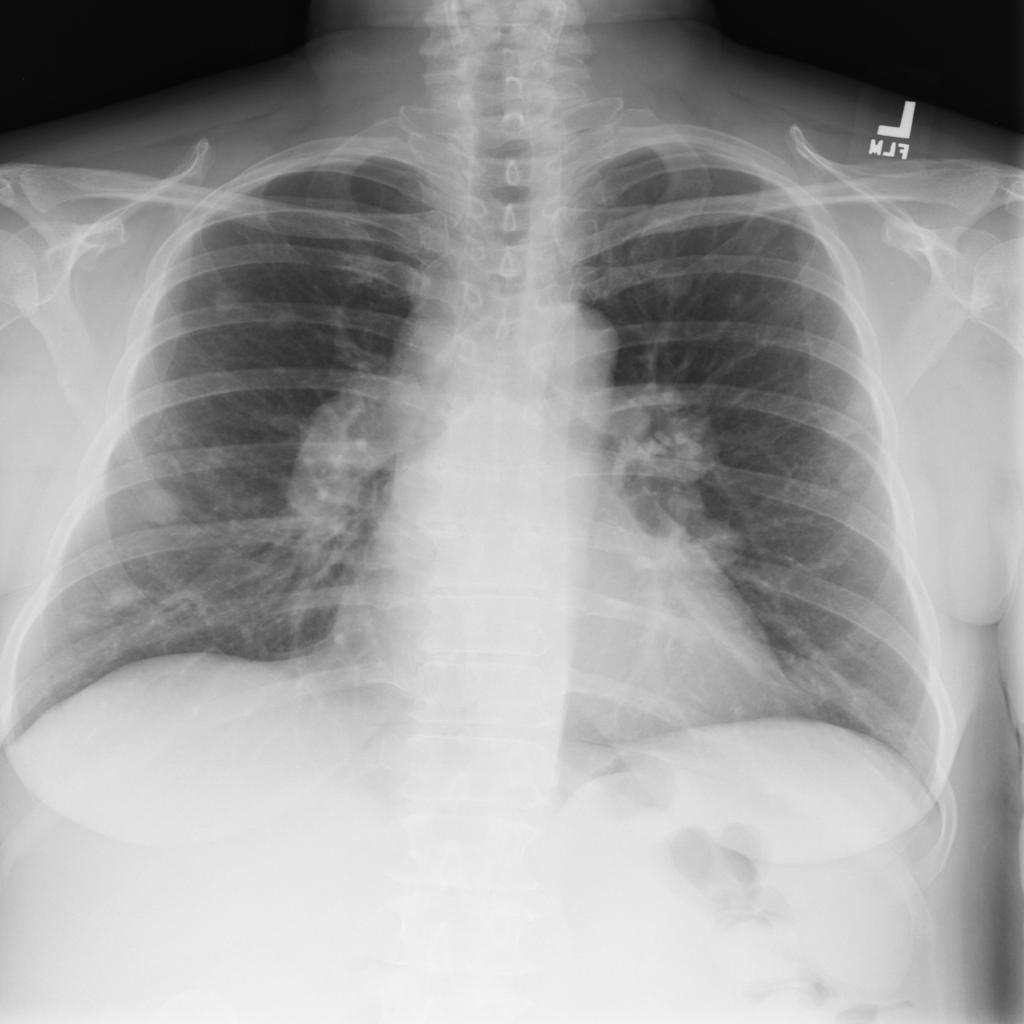nodule: (117, 473, 203, 535), (634, 249, 712, 312), (251, 295, 313, 341), (95, 573, 159, 615), (201, 277, 259, 321), (710, 275, 762, 324), (49, 601, 104, 645)
